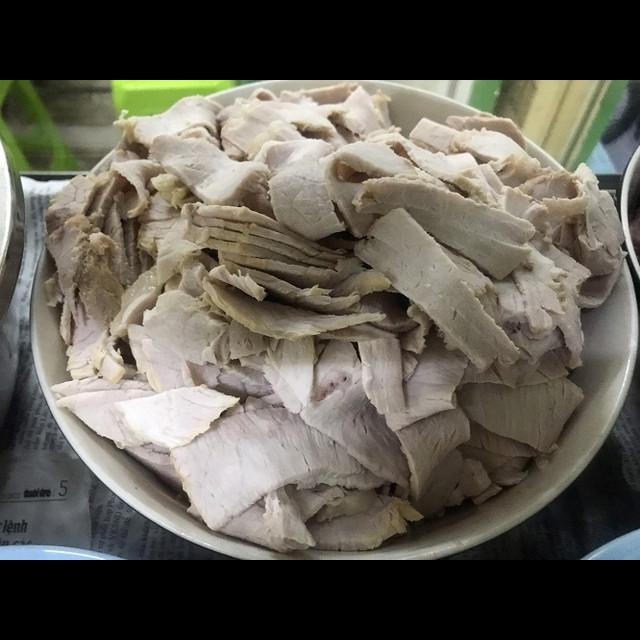thit heo: (346, 203, 524, 378), (160, 402, 370, 535), (348, 170, 539, 290), (294, 325, 420, 495), (493, 179, 593, 374), (47, 383, 224, 487), (448, 349, 588, 456), (195, 269, 391, 345), (317, 133, 425, 250), (380, 304, 474, 435), (362, 130, 500, 211), (146, 127, 275, 212), (249, 132, 350, 240), (210, 249, 365, 319), (108, 381, 242, 460), (138, 284, 236, 371), (109, 91, 231, 157), (38, 208, 99, 334), (216, 99, 310, 170)
